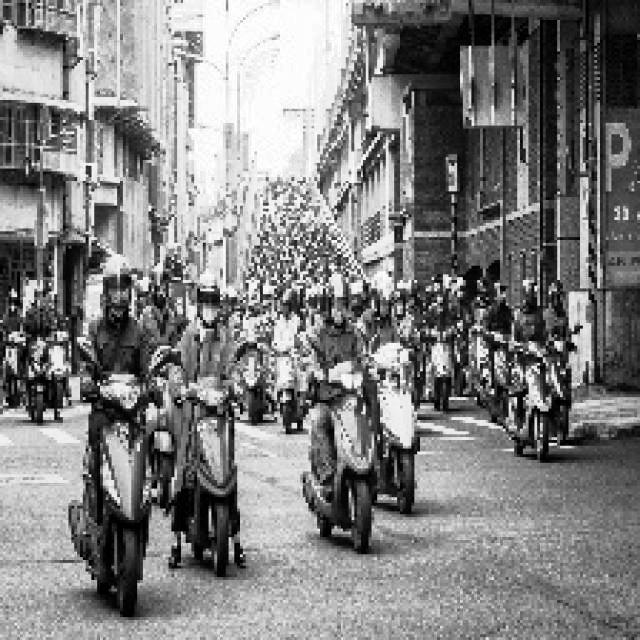Bike: (301, 341, 385, 537), (80, 382, 154, 582), (181, 346, 245, 551), (368, 309, 427, 519), (504, 318, 568, 455)
